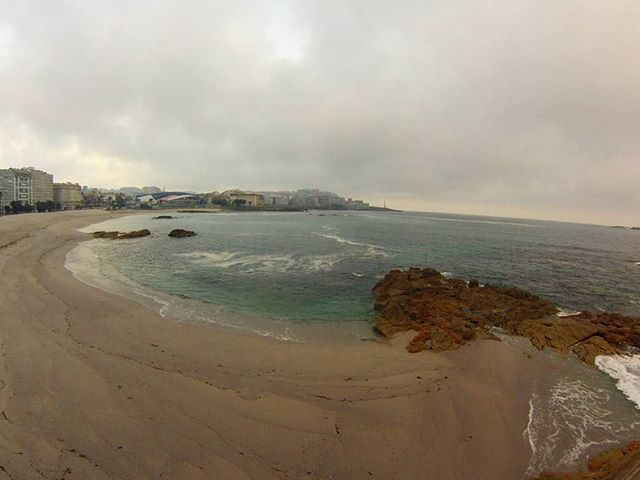beach: (2, 287, 568, 480), (1, 204, 107, 345)
building: (1, 166, 56, 214), (58, 181, 82, 209)
sea: (141, 208, 640, 317)
sky: (4, 1, 640, 169)
